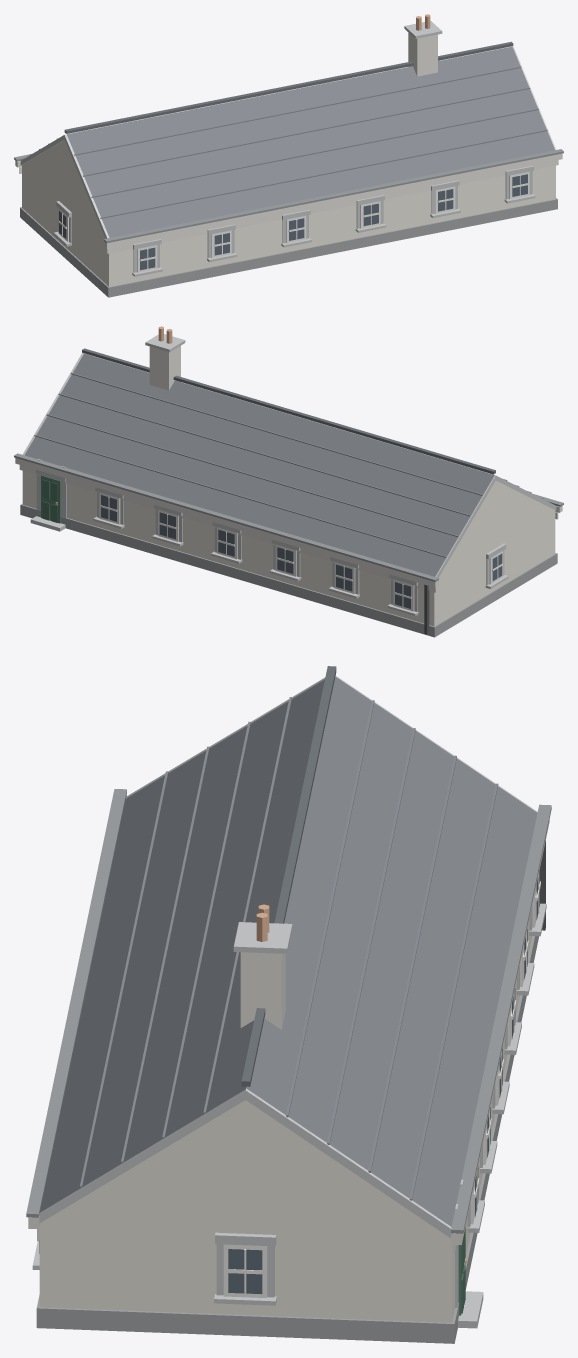
3 renders of one model, top to bottom at view 1: azimuth 30°, elevation 25°; view 2: azimuth 150°, elevation 25°; view 3: azimuth 270°, elevation 25°, orthographic. The views are drawn at different scales.
Parts seen in each view (by area): view 1: slate, harl_cream, plinth, stone_band, string, slate_lt, lead, slate_dk, frame, chim_render; view 2: slate, harl_cream, plinth, stone_band, string, slate_lt, lead, slate_dk, frame, chim_render, door_green_p, door_green; view 3: slate, harl_cream, stone_band, lead, slate_lt, plinth, slate_dk, chim_render, frame, window_glass_013, string.
Part boxes in pixels (bbox=[...]): slate: bbox=[67, 46, 554, 237]; harl_cream: bbox=[22, 140, 555, 286]; plinth: bbox=[20, 198, 557, 297]; stone_band: bbox=[20, 21, 556, 276]; string: bbox=[15, 153, 562, 253]; slate_lt: bbox=[30, 66, 547, 218]; lead: bbox=[14, 149, 563, 243]; slate_dk: bbox=[64, 41, 513, 133]; frame: bbox=[58, 171, 529, 272]; chim_render: bbox=[408, 32, 437, 76]; slate: bbox=[25, 353, 494, 576]; harl_cream: bbox=[22, 471, 555, 626]; plinth: bbox=[20, 504, 557, 637]; stone_band: bbox=[22, 334, 556, 616]; string: bbox=[15, 458, 562, 592]; slate_lt: bbox=[34, 373, 543, 557]; lead: bbox=[14, 453, 563, 581]; slate_dk: bbox=[82, 348, 495, 474]; frame: bbox=[99, 492, 503, 611]; chim_render: bbox=[149, 346, 180, 390]; door_green_p: bbox=[42, 479, 57, 522]; door_green: bbox=[41, 475, 60, 523]; slate: bbox=[40, 676, 537, 1226]; harl_cream: bbox=[39, 921, 532, 1322]; stone_band: bbox=[32, 676, 546, 1328]; lead: bbox=[26, 789, 551, 1233]; slate_lt: bbox=[79, 697, 498, 1200]; plinth: bbox=[36, 936, 538, 1343]; slate_dk: bbox=[241, 666, 336, 1086]; chim_render: bbox=[240, 952, 285, 1029]; frame: bbox=[223, 872, 540, 1297]; window_glass_013: bbox=[228, 1249, 262, 1294]; string: bbox=[28, 795, 549, 1256].
Bounding box in the file's own units: 21.57 × 7.76 × 10.85.
